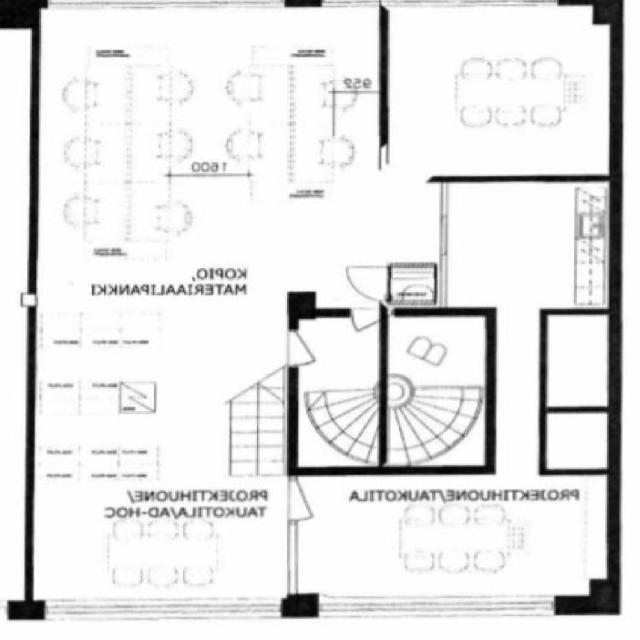door: (289, 481, 344, 519), (318, 177, 354, 211), (290, 332, 332, 361), (351, 309, 378, 339)
